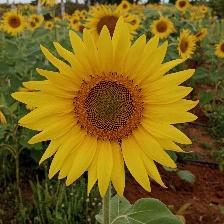sunflower: (21, 29, 195, 193)
